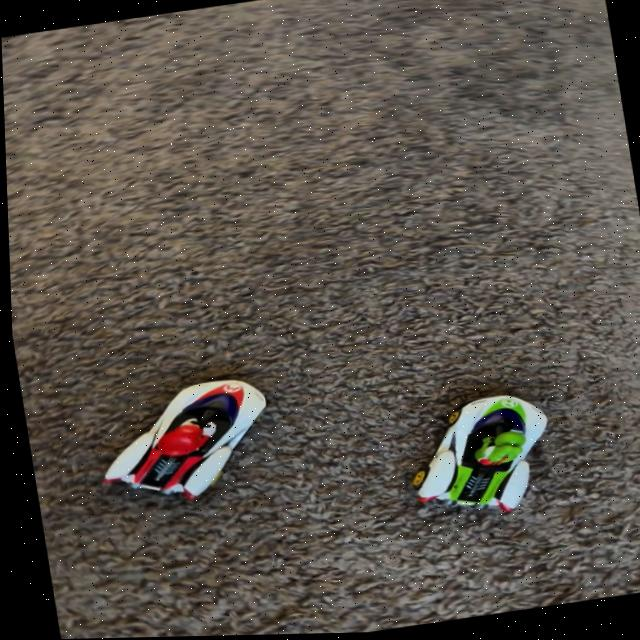mario: (65, 362, 289, 529)
yoshi: (379, 380, 571, 542)
